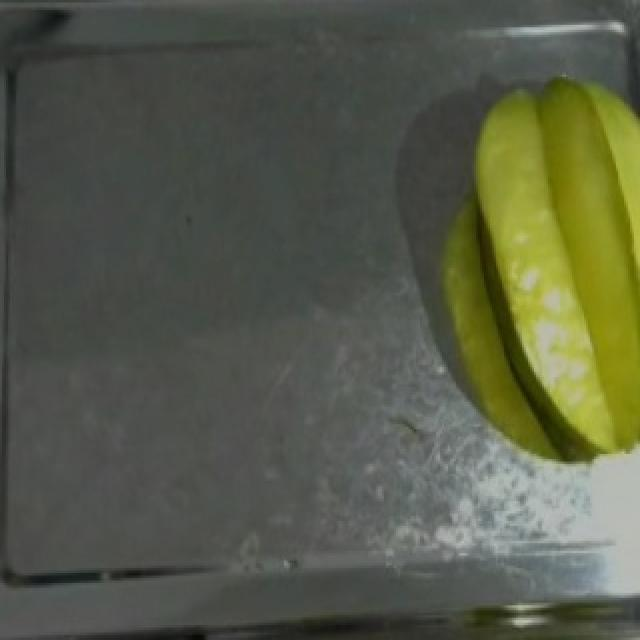fruit: (454, 62, 640, 451)
